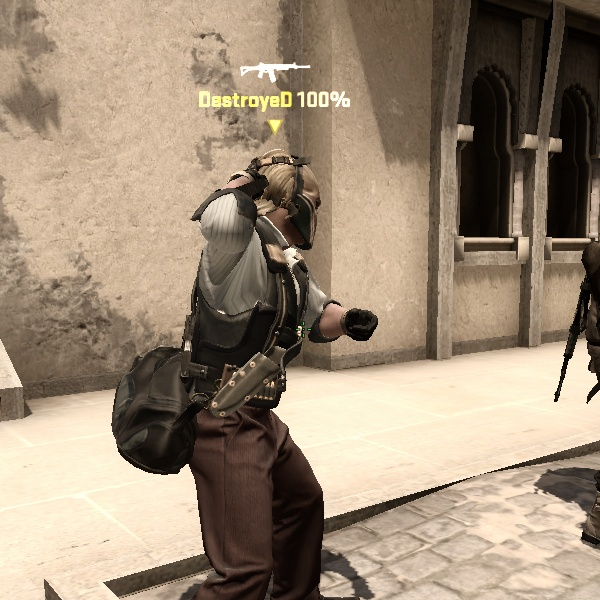t_body: (88, 146, 390, 600)
t_head: (228, 141, 347, 260)
